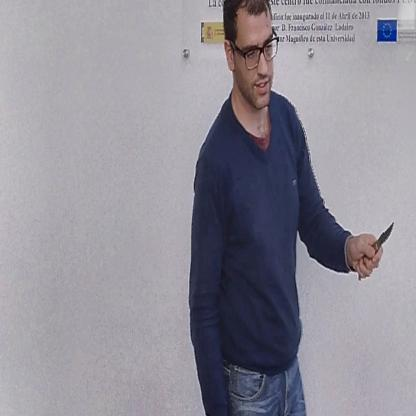knife: (355, 213, 398, 283)
